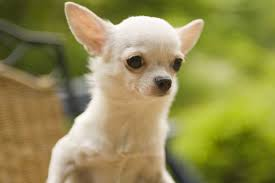chihuahua: (49, 1, 204, 182)
